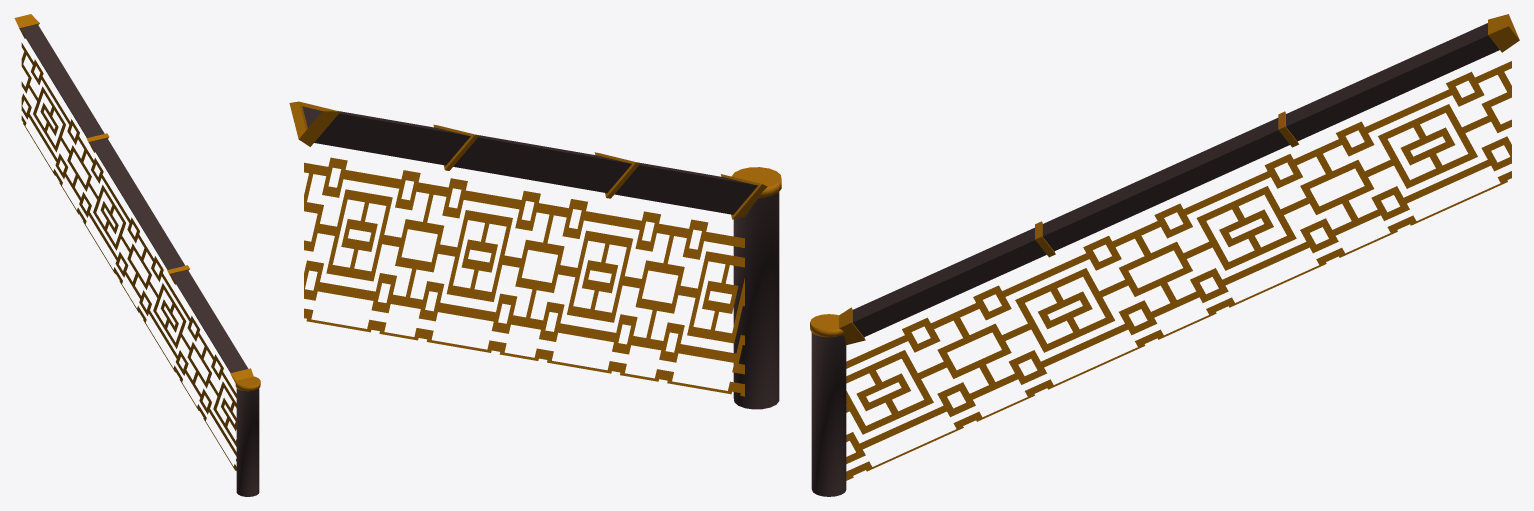
The model's file is Railing Staircase.fbx.
3 renders of one model, left to right at view 1: azimuth 30°, elevation 25°; view 2: azimuth 150°, elevation 25°; view 3: azimuth 270°, elevation 25°, orthographic. The views are drawn at different scales.
Parts seen in each view (by area): view 1: Railing Staircase; view 2: Railing Staircase; view 3: Railing Staircase.
Boxes of the visible parts, left/top/right/bottom form: Railing Staircase: left=14, top=14, right=260, bottom=496; Railing Staircase: left=289, top=101, right=781, bottom=409; Railing Staircase: left=810, top=14, right=1519, bottom=496.
Size of the model in its own units: 22 by 301 by 410.
